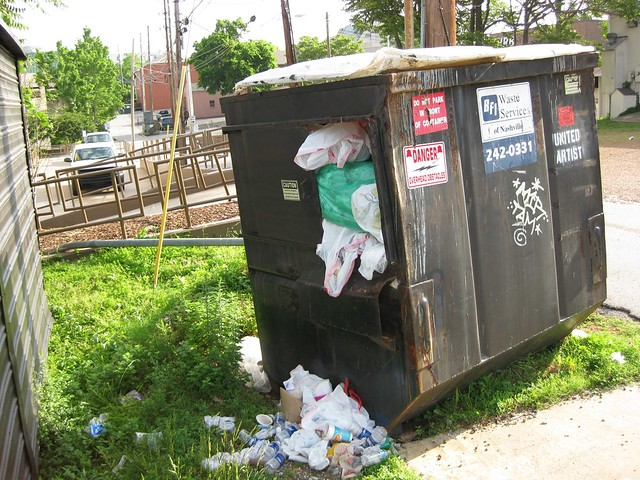Dumpster: (210, 35, 616, 436)
